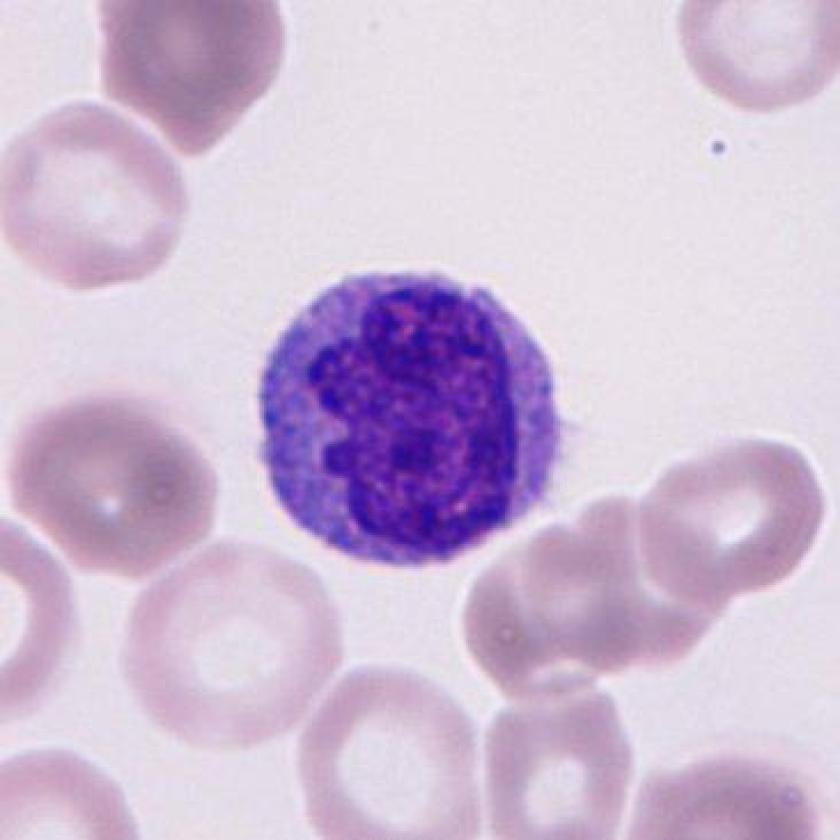monocyte: (249, 259, 582, 598)
